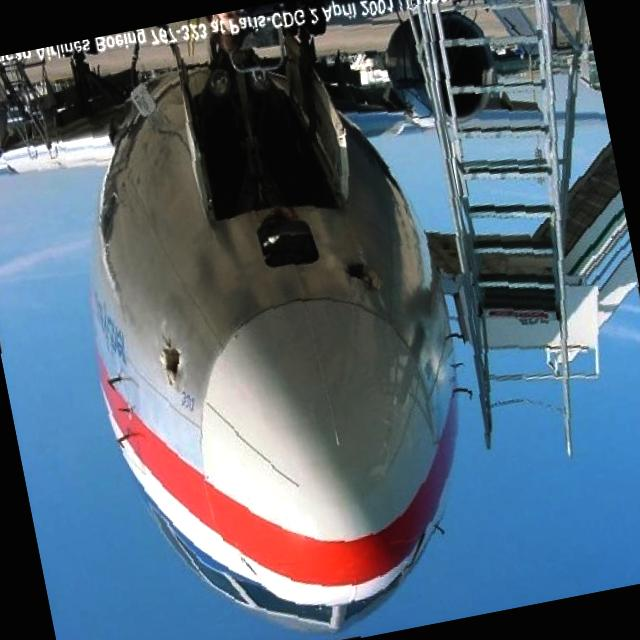dent: (149, 322, 205, 388), (346, 252, 388, 296)
